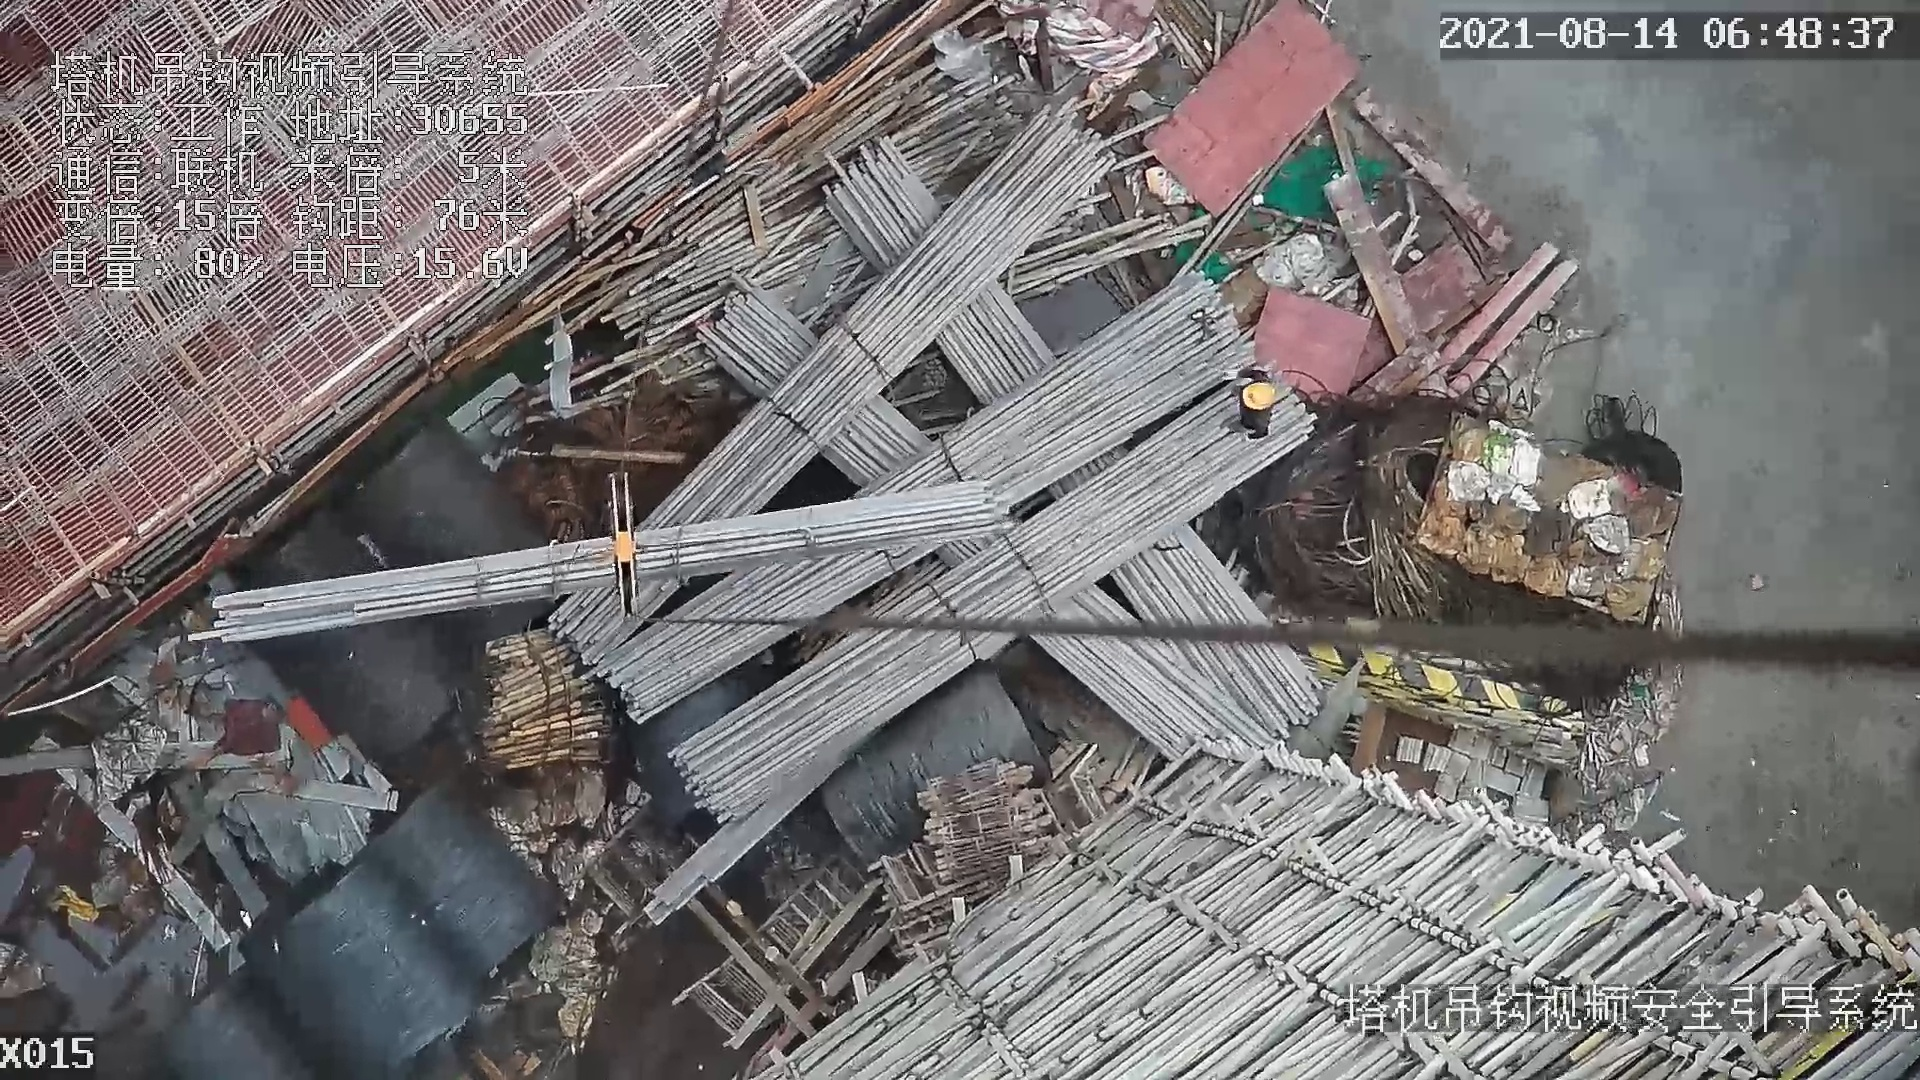board: (1138, 2, 1356, 216)
helmet: (1241, 380, 1280, 412)
hook: (599, 471, 645, 624)
person: (1222, 359, 1281, 449)
scaffold: (482, 632, 603, 771)
